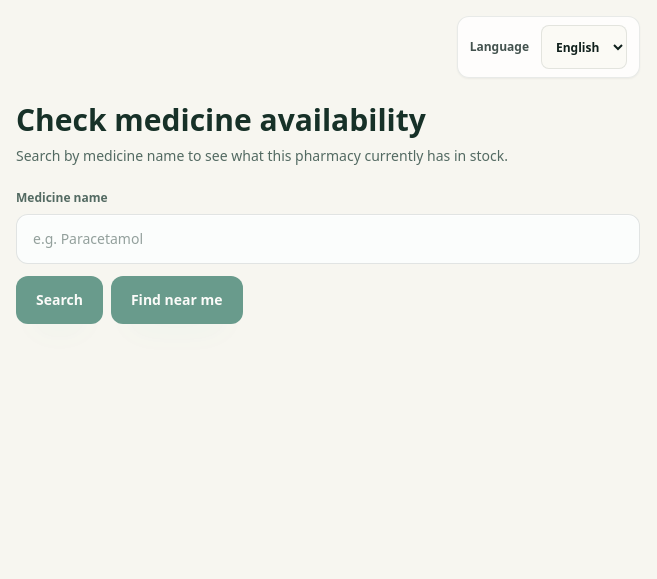
Scenario: PublicMedicineSearch › shows an empty state with no fabricated results
The image size is (657, 579).
Type "nonexistent-medicine" into the field labelled "Medicine name" at coordinates (328, 239), box [16, 214, 640, 264]
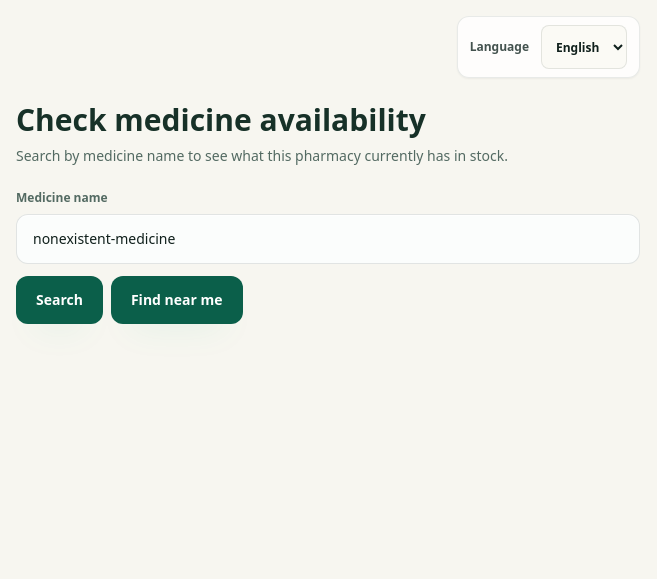
Click the button "Search" at coordinates (59, 300), box [16, 276, 103, 324]
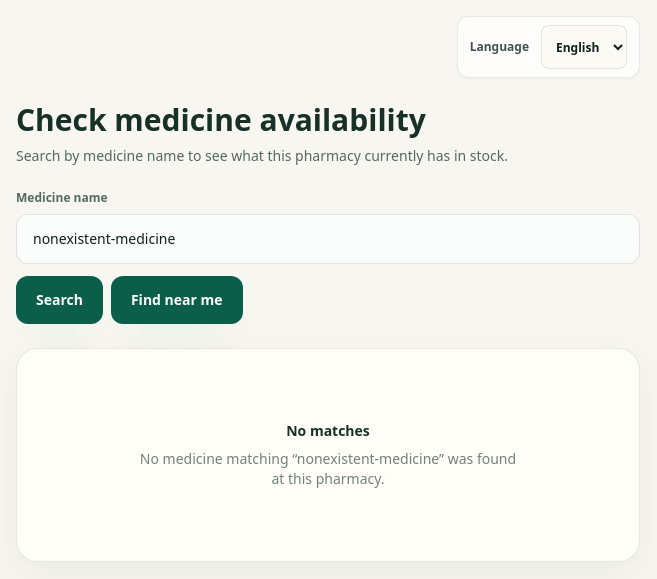
Expected: the text "No matches" is shown, [286, 421, 370, 441]
Expected: the text "nonexistent-medicine" is shown, [140, 449, 516, 488]
